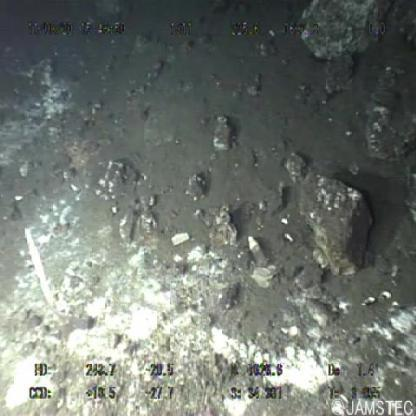Rác: (247, 234, 269, 271)
